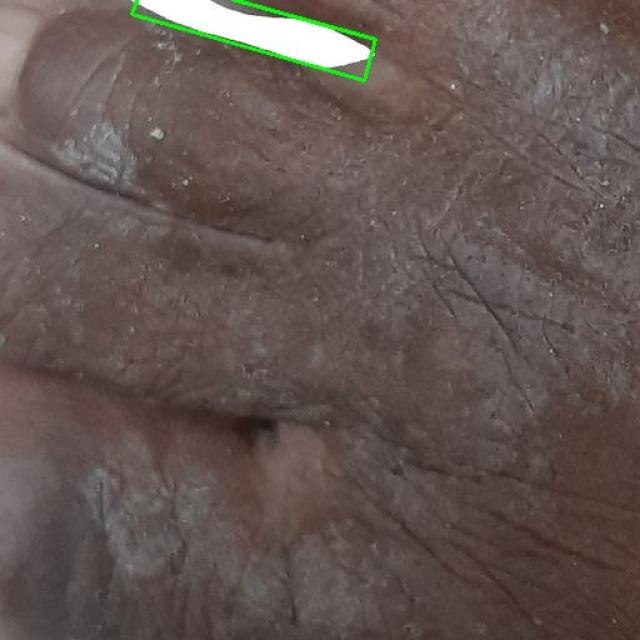Eczema: (132, 0, 376, 81)
